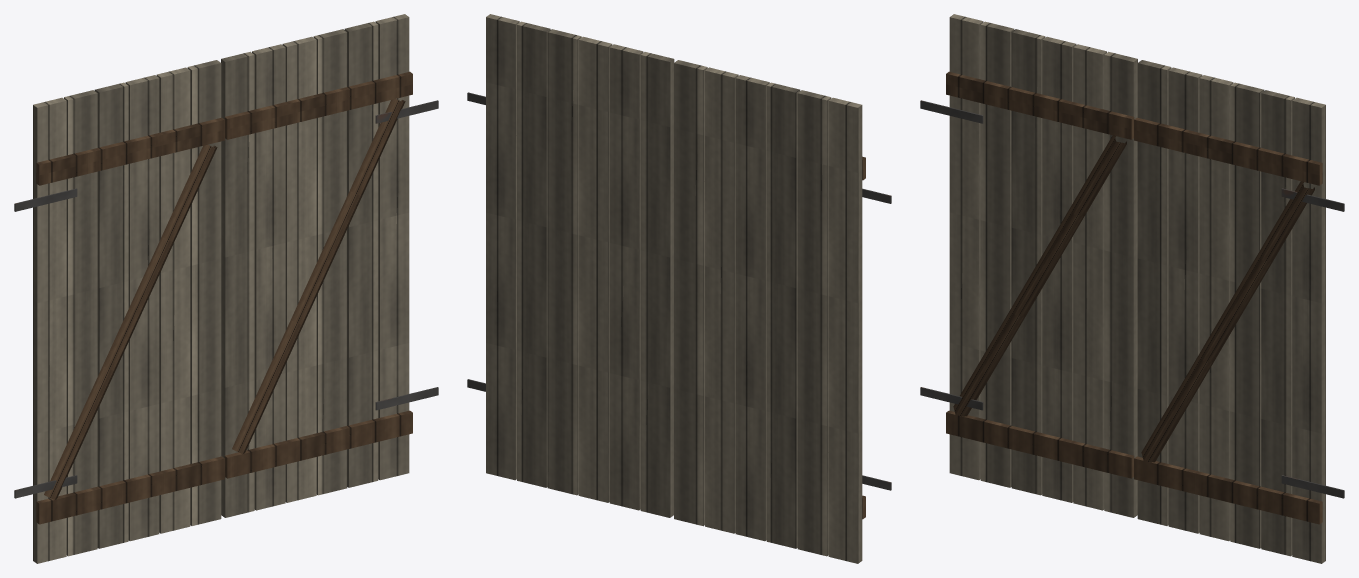
File: Door_Barn_1.gltf
3 views of the same model, side by side, from view 1: azimuth 30°, elevation 25°; view 2: azimuth 150°, elevation 25°; view 3: azimuth 330°, elevation 25° (orthographic).
Parts seen in each view (by area): view 1: Door_Barn_1; view 2: Door_Barn_1; view 3: Door_Barn_1.
Boxes of the visible parts, box(x1,y1,x2,y2) form: Door_Barn_1: box(14, 14, 438, 563); Door_Barn_1: box(467, 14, 891, 563); Door_Barn_1: box(920, 14, 1344, 563).
Bounding box in the file's own units: 3.4 × 3.5 × 0.14.
Materials: 3 (3 with a texture image).
